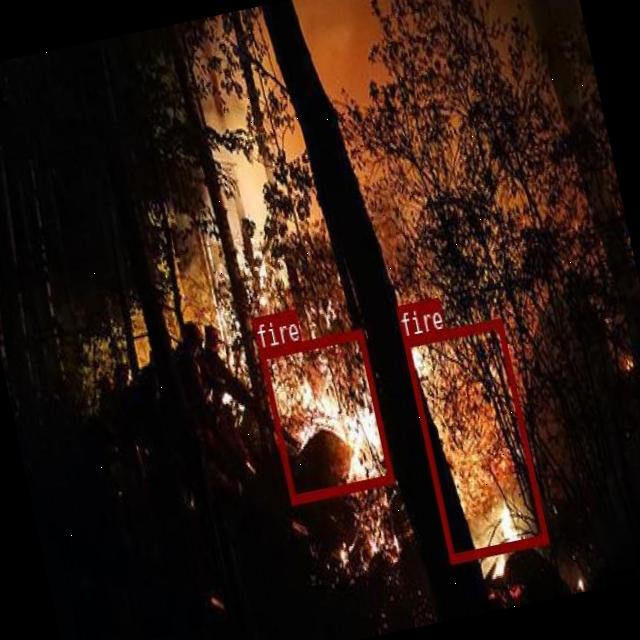fire: (401, 316, 547, 562), (257, 326, 393, 502)
